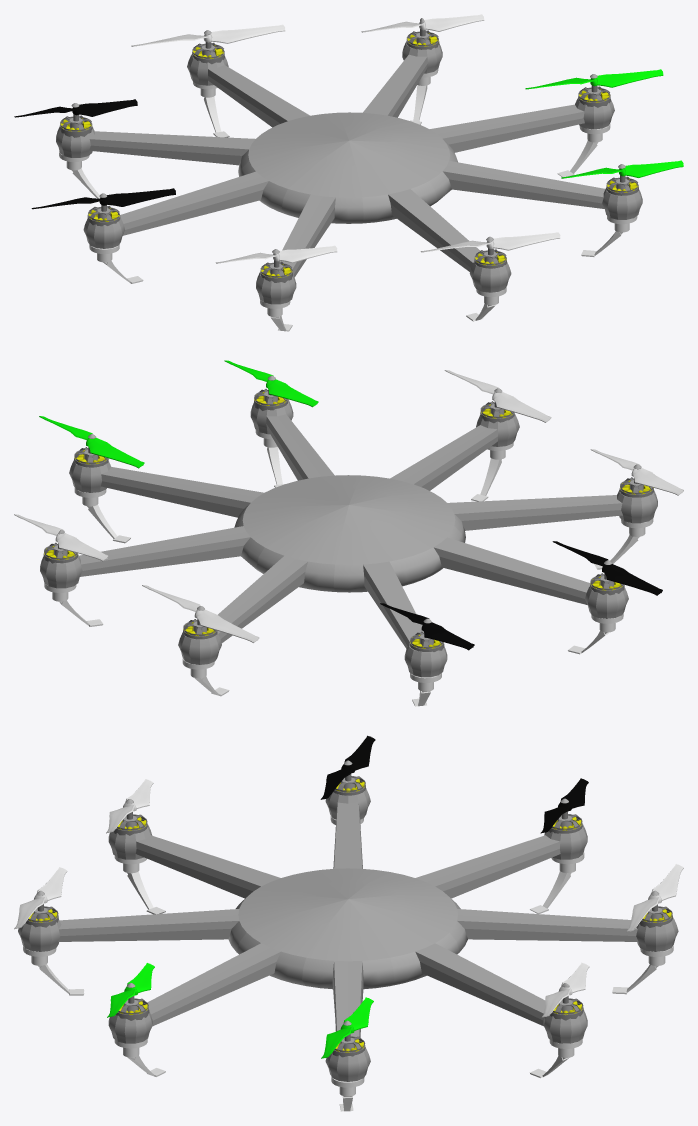
The model's file is uav_8_1.fbx.
3 views of the same model, one above another, from view 1: azimuth 30°, elevation 25°; view 2: azimuth 150°, elevation 25°; view 3: azimuth 270°, elevation 25° (orthographic). The views are drawn at different scales.
Visible parts, largest first — view 1: coil_7_3928; view 2: coil_7_3928; view 3: coil_7_3928.
Boxes of the visible parts, box(x1,y1,x2,y2) form: coil_7_3928: box(14, 14, 683, 331); coil_7_3928: box(14, 360, 683, 706); coil_7_3928: box(14, 735, 683, 1111).
Bounding box in the file's own units: 46.14 × 6.79 × 40.27.
